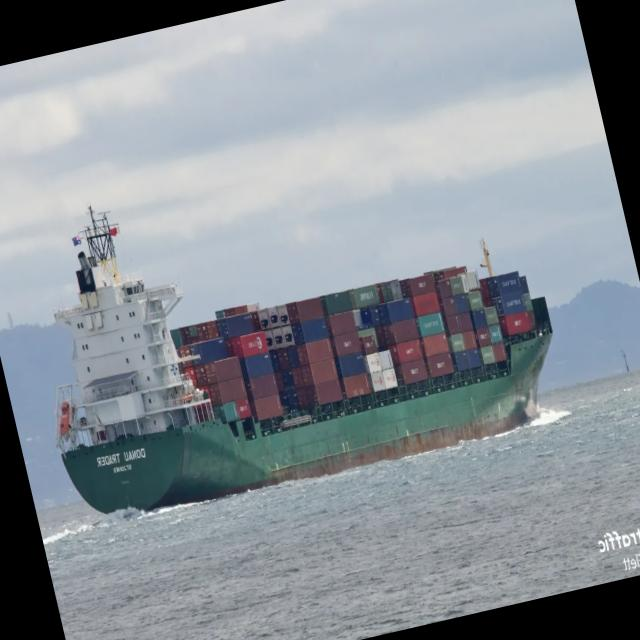Cargo: (55, 208, 552, 512)
